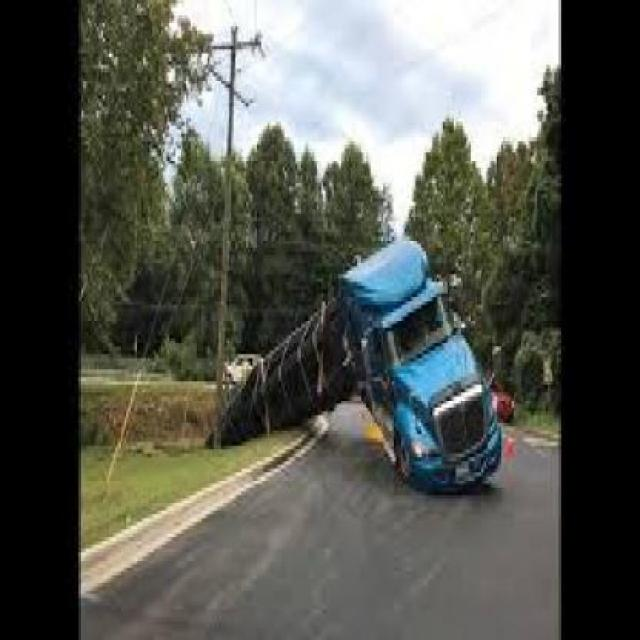accident: (216, 233, 512, 524)
